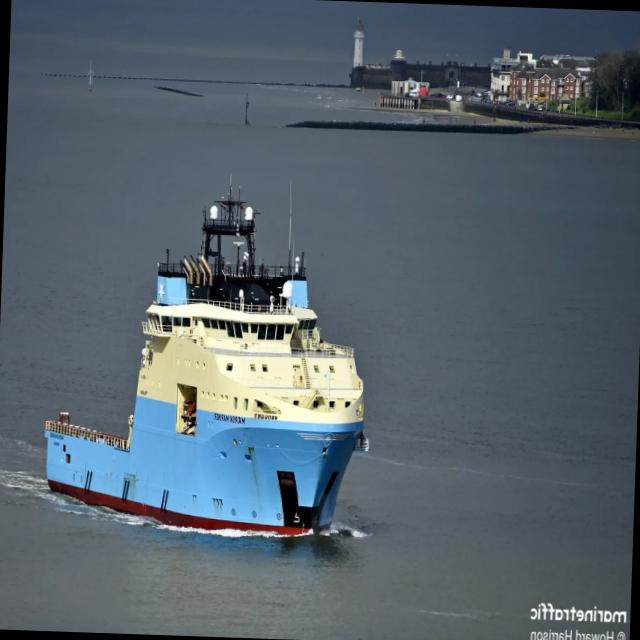Offshore: (45, 186, 368, 534)
